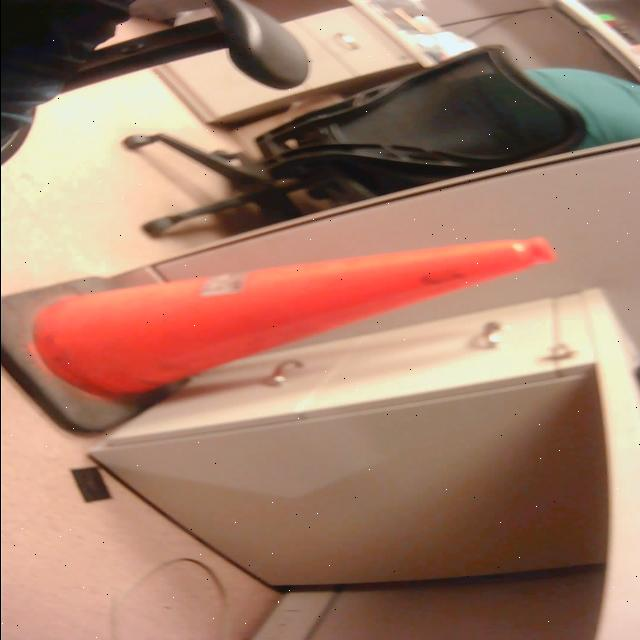traffic cone: (1, 235, 565, 442)
